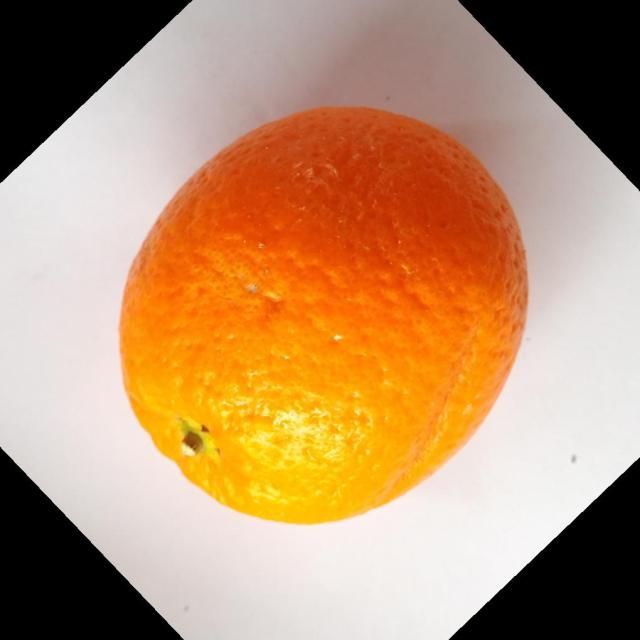fresh orange: (118, 104, 530, 525)
